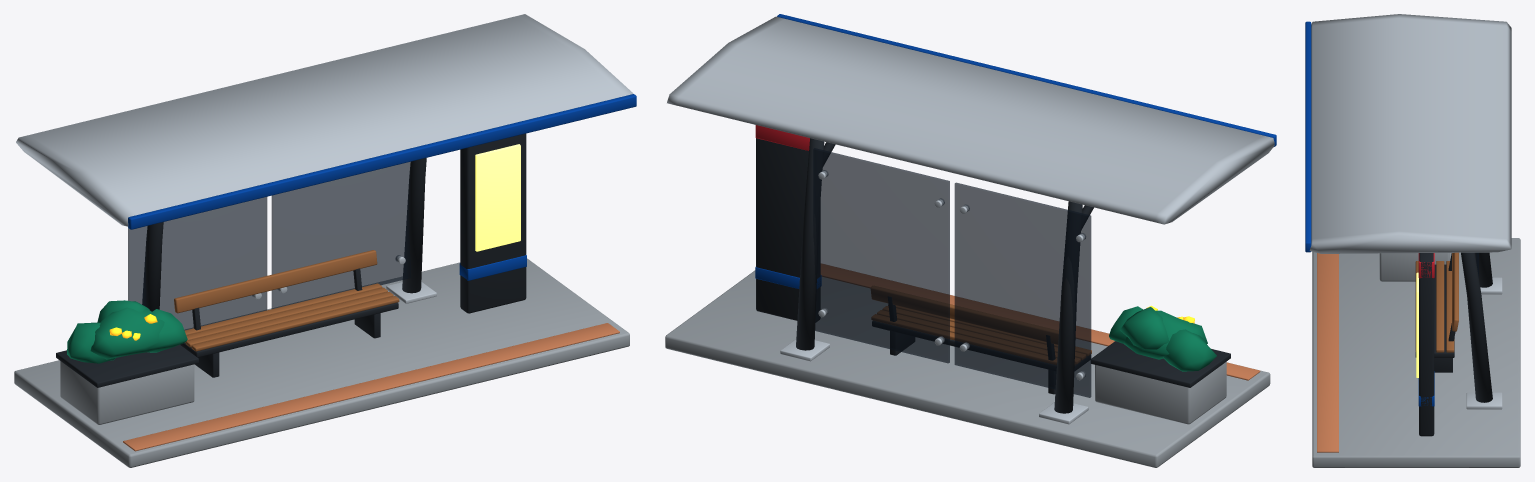
Rendered from kl_bus_shelter.glb.
3 renders of one model, left to right at view 1: azimuth 30°, elevation 25°; view 2: azimuth 150°, elevation 25°; view 3: azimuth 270°, elevation 25°, orthographic. The views are drawn at different scales.
Parts seen in each view (by area): view 1: Shelter_Canopy_Shell, Shelter_Plinth, Shelter_Glass_1, Shelter_Glass_0, Shelter_Canopy_Fascia, Shelter_Tactile_Strip, Shelter_Totem_Body, Shelter_Planter_Box, Shelter_Totem_Screen, Shelter_Bench_Back, Shelter_Planter_Rim, Shelter_Flora_0 (+10 smaller); view 2: Shelter_Canopy_Shell, Shelter_Plinth, Shelter_Glass_1, Shelter_Glass_0, Shelter_Totem_Body, Shelter_Planter_Box, Shelter_Column_1, Shelter_Column_0, Shelter_Tactile_Strip, Shelter_Bench_Back, Shelter_Planter_Rim, Shelter_Canopy_Fascia (+8 smaller); view 3: Shelter_Canopy_Shell, Shelter_Plinth, Shelter_Tactile_Strip, Shelter_Totem_Body, Shelter_Column_1, Shelter_Canopy_Fascia, Shelter_Planter_Box, Shelter_Bench_Slat_2, Shelter_Bench_Spine, Shelter_Bench_Back, Shelter_Bench_Slat_3, Shelter_BasePlate_1 (+5 smaller).
Part boxes in pixels (x1=…): Shelter_Canopy_Shell: x1=16, y1=14, x2=633, y2=226; Shelter_Plinth: x1=14, y1=258, x2=629, y2=467; Shelter_Glass_1: x1=271, y1=162, x2=410, y2=308; Shelter_Glass_0: x1=128, y1=197, x2=267, y2=330; Shelter_Canopy_Fascia: x1=128, y1=94, x2=636, y2=229; Shelter_Tactile_Strip: x1=123, y1=323, x2=619, y2=451; Shelter_Totem_Body: x1=460, y1=133, x2=526, y2=313; Shelter_Planter_Box: x1=60, y1=361, x2=194, y2=424; Shelter_Totem_Screen: x1=475, y1=144, x2=520, y2=251; Shelter_Bench_Back: x1=174, y1=250, x2=377, y2=313; Shelter_Planter_Rim: x1=56, y1=344, x2=198, y2=387; Shelter_Flora_0: x1=90, y1=307, x2=164, y2=359; Shelter_Canopy_Shell: x1=667, y1=16, x2=1274, y2=224; Shelter_Plinth: x1=665, y1=270, x2=1270, y2=467; Shelter_Glass_1: x1=813, y1=148, x2=949, y2=363; Shelter_Glass_0: x1=954, y1=182, x2=1091, y2=397; Shelter_Totem_Body: x1=756, y1=138, x2=820, y2=322; Shelter_Planter_Box: x1=1095, y1=362, x2=1226, y2=424; Shelter_Column_1: x1=796, y1=138, x2=824, y2=350; Shelter_Column_0: x1=1054, y1=201, x2=1082, y2=413; Shelter_Tactile_Strip: x1=821, y1=264, x2=1260, y2=380; Shelter_Bench_Back: x1=871, y1=286, x2=1058, y2=344; Shelter_Planter_Rim: x1=1091, y1=341, x2=1230, y2=387; Shelter_Canopy_Fascia: x1=777, y1=14, x2=1276, y2=146; Shelter_Canopy_Shell: x1=1309, y1=14, x2=1511, y2=253; Shelter_Plinth: x1=1312, y1=238, x2=1520, y2=467; Shelter_Tactile_Strip: x1=1317, y1=253, x2=1338, y2=452; Shelter_Totem_Body: x1=1419, y1=253, x2=1434, y2=436; Shelter_Column_1: x1=1461, y1=252, x2=1492, y2=402; Shelter_Canopy_Fascia: x1=1305, y1=21, x2=1311, y2=252; Shelter_Planter_Box: x1=1379, y1=253, x2=1449, y2=281; Shelter_Bench_Slat_2: x1=1436, y1=261, x2=1444, y2=352; Shelter_Bench_Spine: x1=1415, y1=264, x2=1454, y2=357; Shelter_Bench_Back: x1=1452, y1=252, x2=1458, y2=331; Shelter_Bench_Slat_3: x1=1446, y1=261, x2=1454, y2=352; Shelter_BasePlate_1: x1=1466, y1=392, x2=1502, y2=409.
Bounding box in the file's own units: 6.16 × 3.04 × 2.53.
